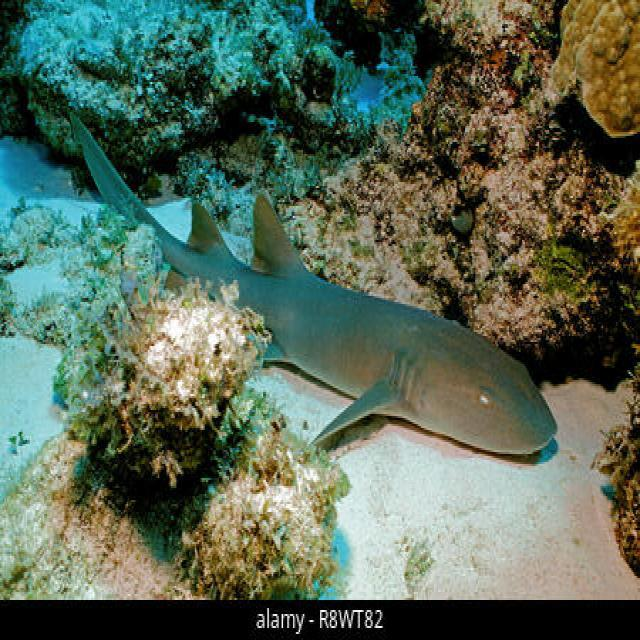Shark: (62, 84, 574, 480)
